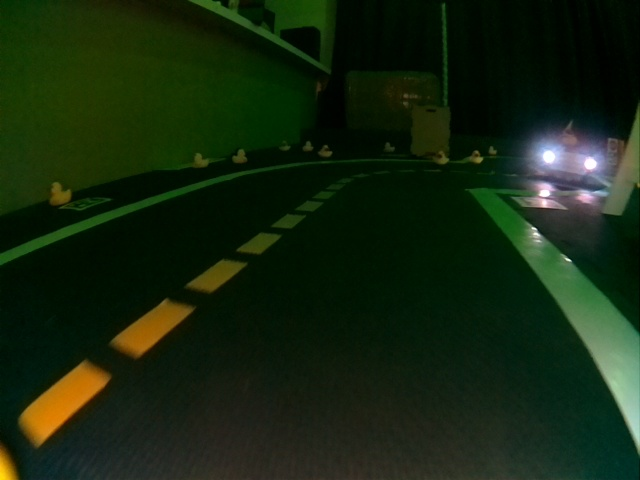Duckie: (50, 182, 69, 203), (562, 128, 578, 145), (194, 153, 208, 168), (434, 151, 448, 165), (234, 149, 247, 163), (471, 150, 481, 164), (321, 145, 331, 156), (303, 141, 313, 151), (280, 141, 290, 150), (384, 143, 394, 152), (489, 146, 498, 156)
Duckiebot: (539, 147, 597, 182)
QR code: (59, 197, 111, 210), (510, 197, 565, 209)
